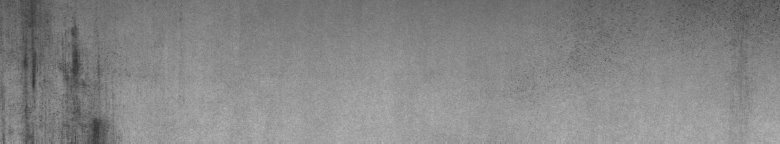ka: (4, 4, 114, 136)
